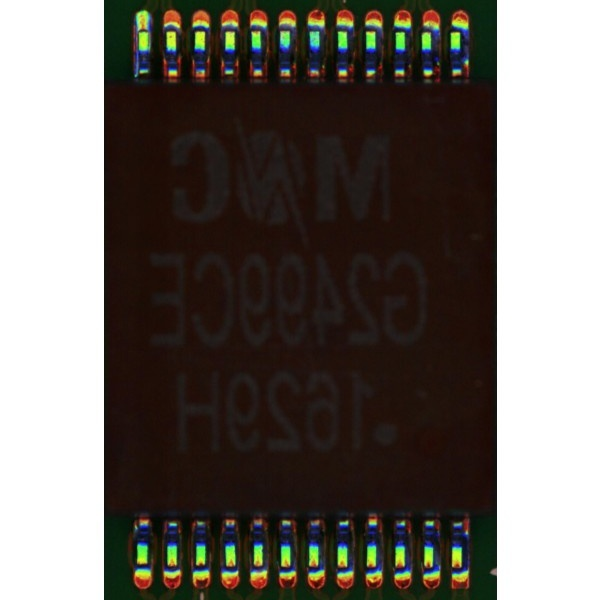Bad_podu: (139, 19, 147, 38)
Bad_qiaojiao: (134, 31, 139, 77)
